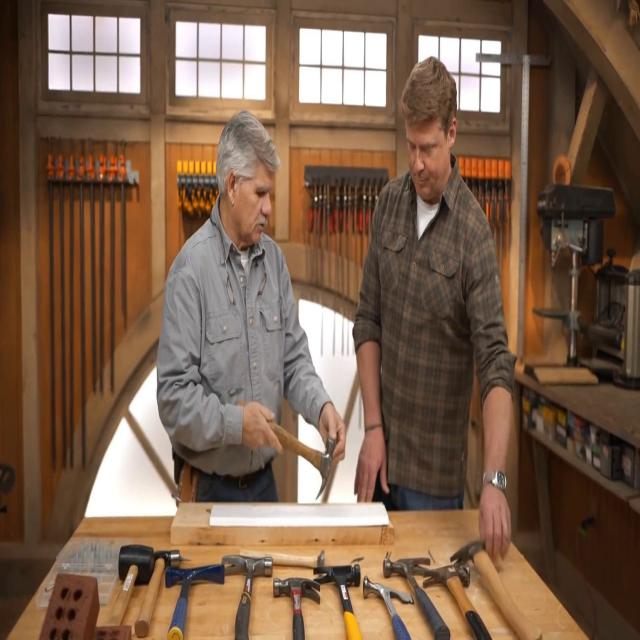hammer: (236, 398, 335, 501), (450, 539, 542, 640), (382, 555, 450, 640), (422, 562, 492, 640), (165, 563, 224, 640), (222, 553, 273, 640), (135, 549, 180, 638), (107, 543, 155, 625), (313, 563, 363, 640), (362, 573, 413, 640), (273, 575, 320, 640), (240, 548, 325, 568)
